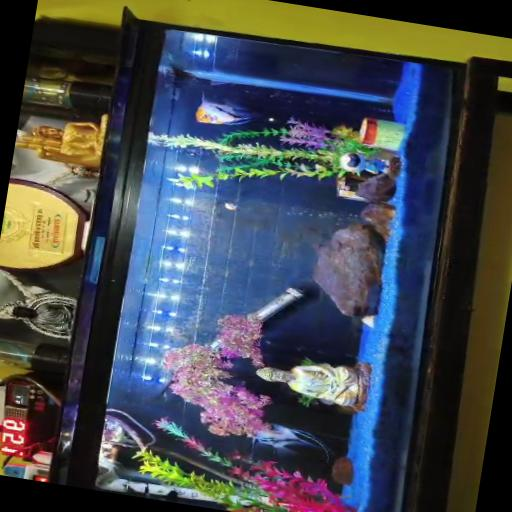Fish: (255, 424, 329, 462), (196, 94, 254, 125), (225, 203, 238, 211)
